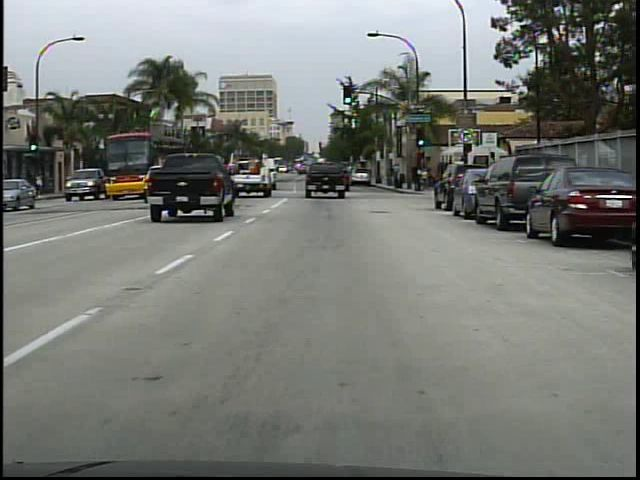person: (421, 167, 431, 192), (426, 169, 434, 191)
